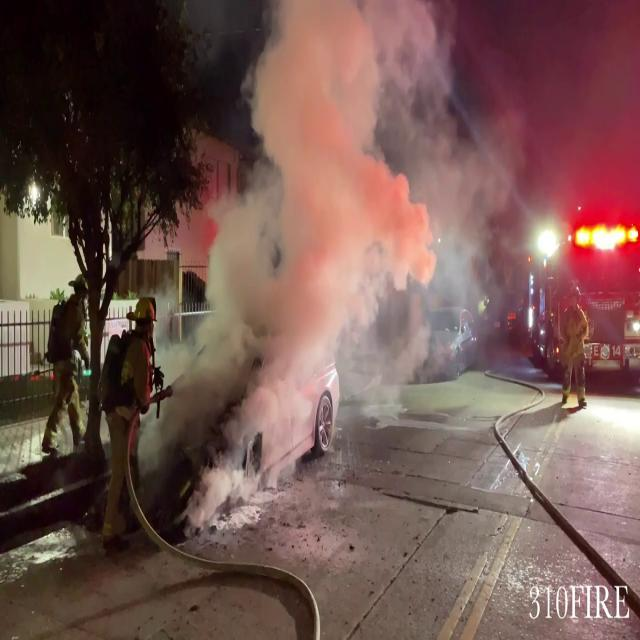Smoke: (202, 0, 524, 432)
